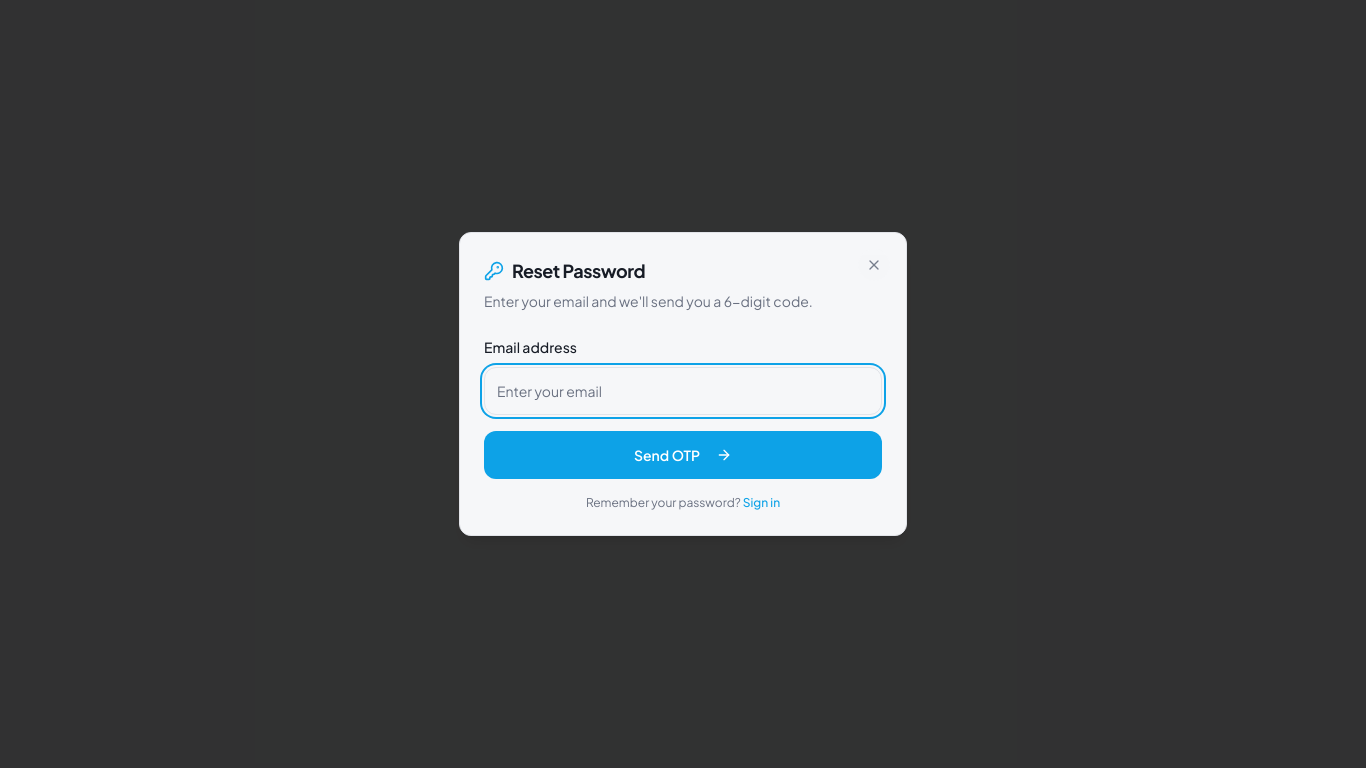
ForgotPasswordDialog › flags invalid email at the start of the OTP wizard
Type "not-an-email" into the field labelled "Email address" at {"x": 683, "y": 391}, box [484, 367, 882, 415]
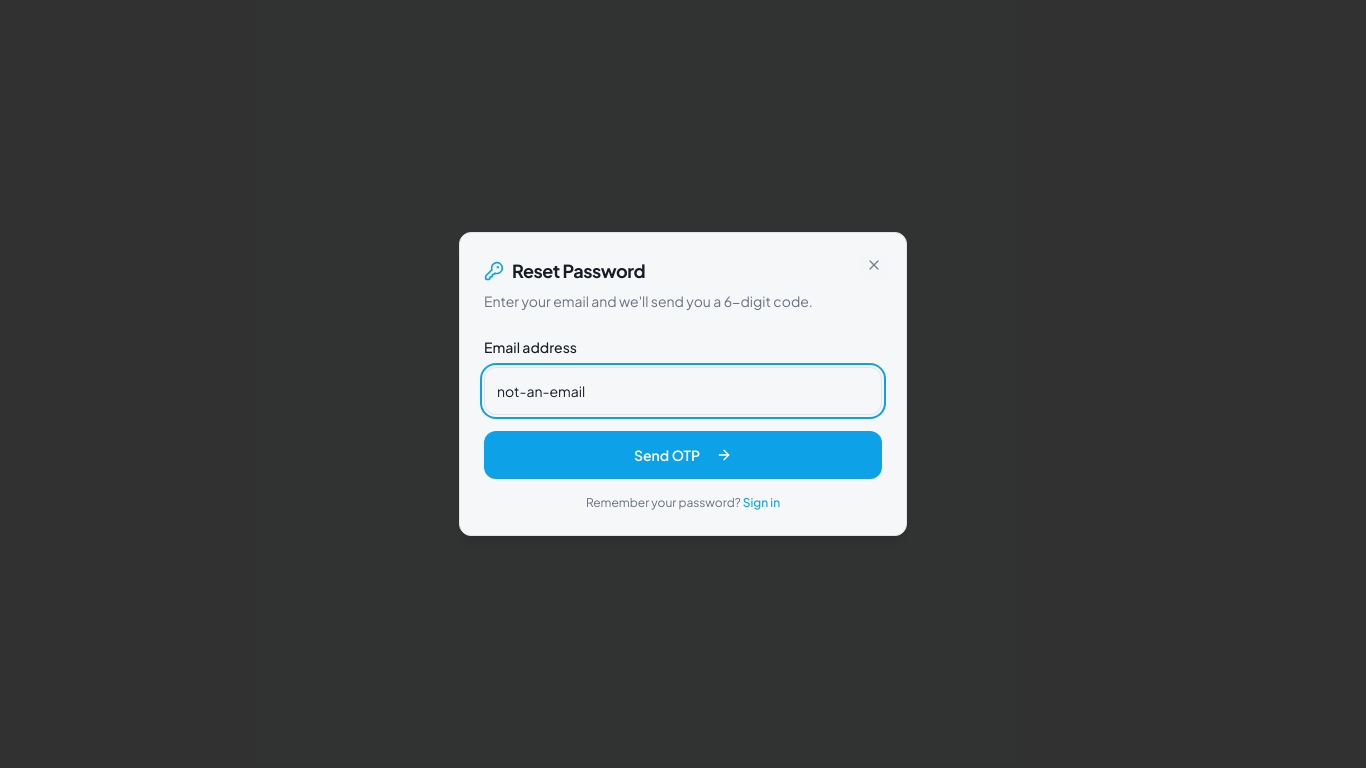
Click the button "Send OTP" at {"x": 683, "y": 455}, box [484, 431, 882, 479]
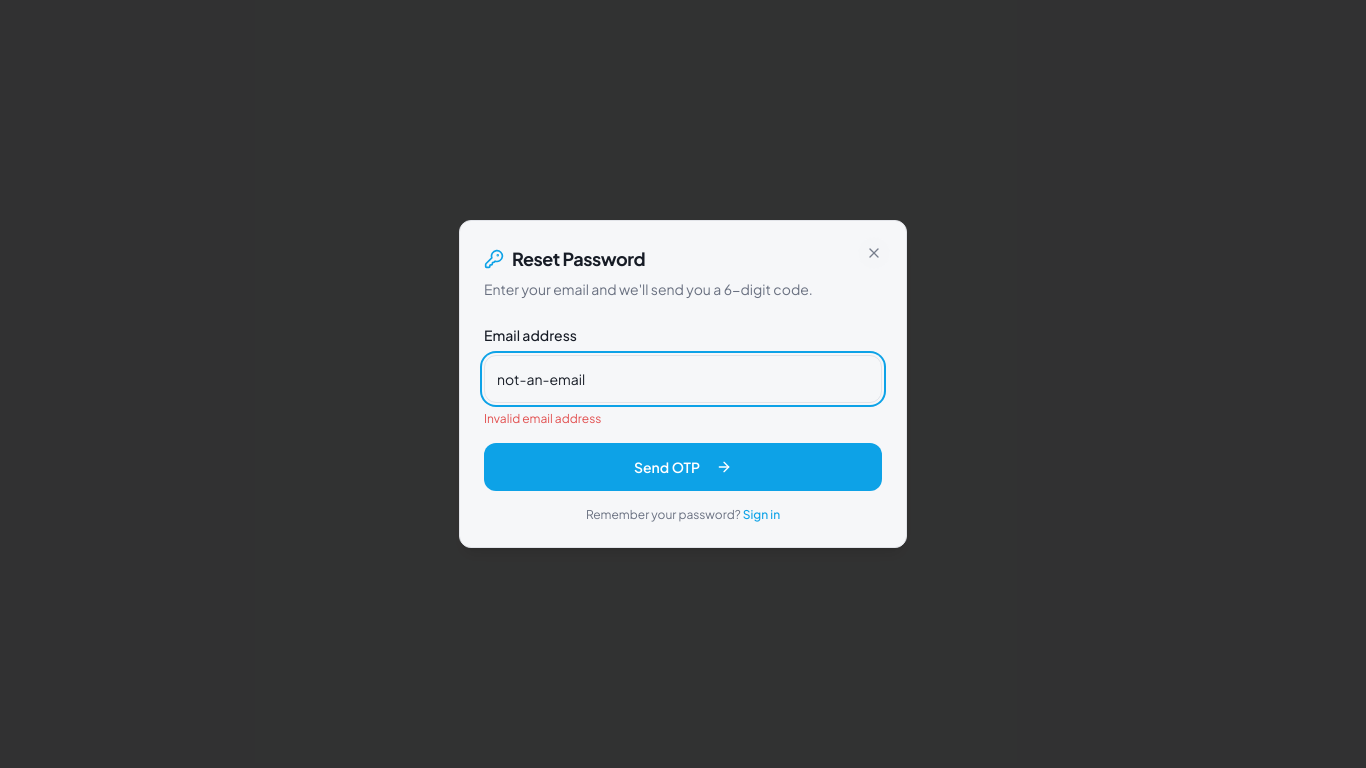
Check: the text "Invalid email address" is shown, box [484, 411, 601, 426]
